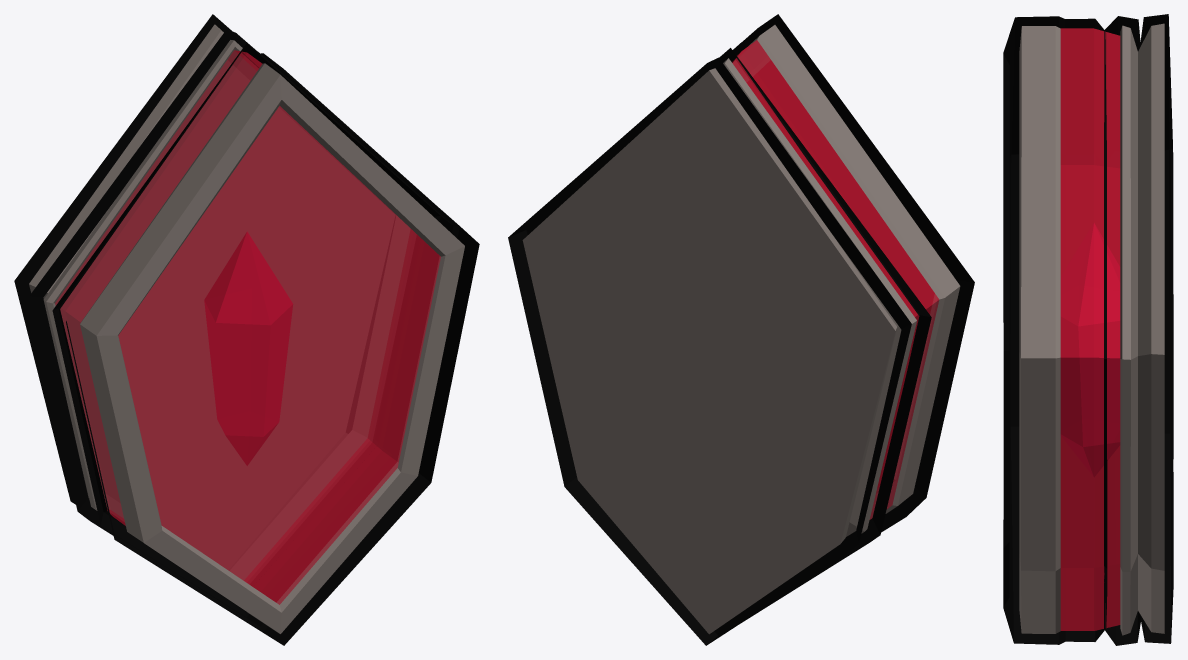
File: hit_switch_wall.fbx
3 renders of one model, left to right at view 1: azimuth 30°, elevation 25°; view 2: azimuth 150°, elevation 25°; view 3: azimuth 270°, elevation 25°, orthographic. The views are drawn at different scales.
Visible parts, largest first — view 1: hit_switch_wall, hit_switch_wall_outline, hit_switch_wall_inside; view 2: hit_switch_wall, hit_switch_wall_outline; view 3: hit_switch_wall, hit_switch_wall_outline, hit_switch_wall_inside.
Part boxes in pixels (left/top/right/bottom): hit_switch_wall: left=29, top=24, right=464, bottom=633; hit_switch_wall_outline: left=14, top=14, right=479, bottom=645; hit_switch_wall_inside: left=204, top=232, right=292, bottom=465; hit_switch_wall: left=522, top=25, right=960, bottom=634; hit_switch_wall_outline: left=508, top=14, right=974, bottom=645; hit_switch_wall: left=1019, top=23, right=1164, bottom=635; hit_switch_wall_outline: left=1003, top=14, right=1173, bottom=645; hit_switch_wall_inside: left=1061, top=223, right=1119, bottom=476.
Size of the model in its own units: 867 by 1212 by 297.
